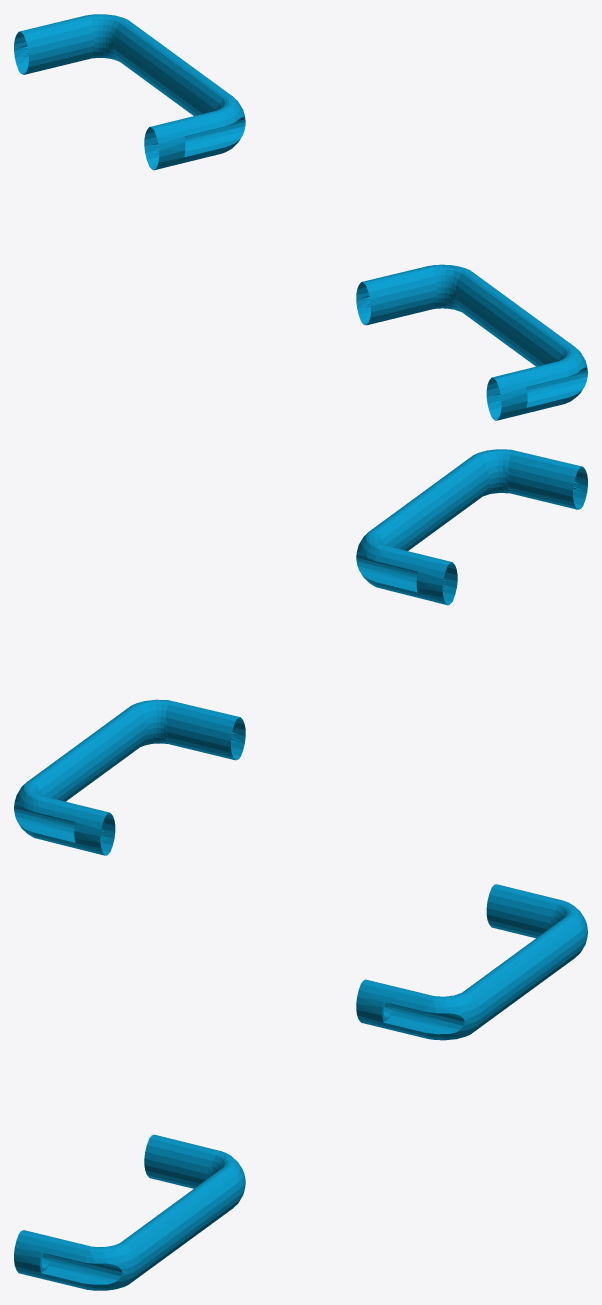
Rendered from dock_handles.dae.
3 renders of one model, top to bottom at view 1: azimuth 30°, elevation 25°; view 2: azimuth 150°, elevation 25°; view 3: azimuth 330°, elevation 25°, orthographic.
Visible parts, largest first — view 1: Dock-Baseline_002; view 2: Dock-Baseline_002; view 3: Dock-Baseline_002.
Boxes of the visible parts, box(x1,y1,x2,y2) form: Dock-Baseline_002: box(14, 14, 587, 420); Dock-Baseline_002: box(14, 449, 587, 855); Dock-Baseline_002: box(14, 884, 587, 1290).
Bounding box in the file's own units: 0.0669 × 0.55 × 0.0261.
